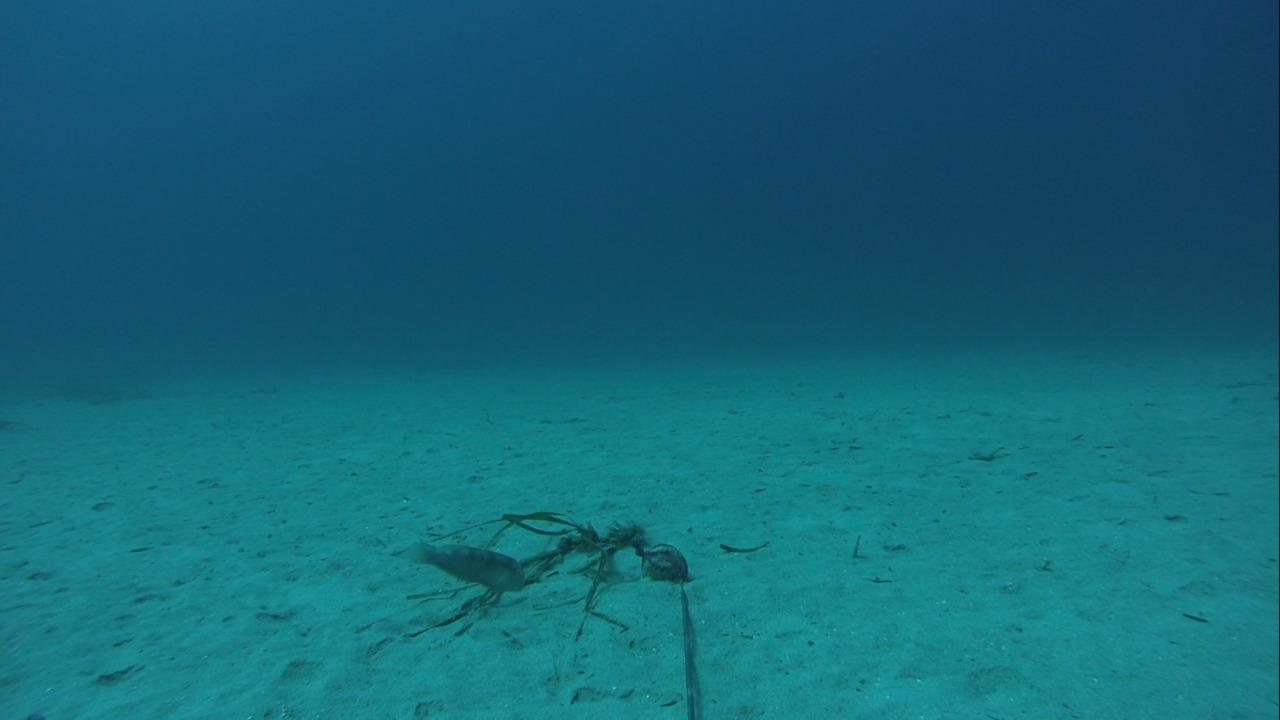raor: (400, 537, 528, 595)
